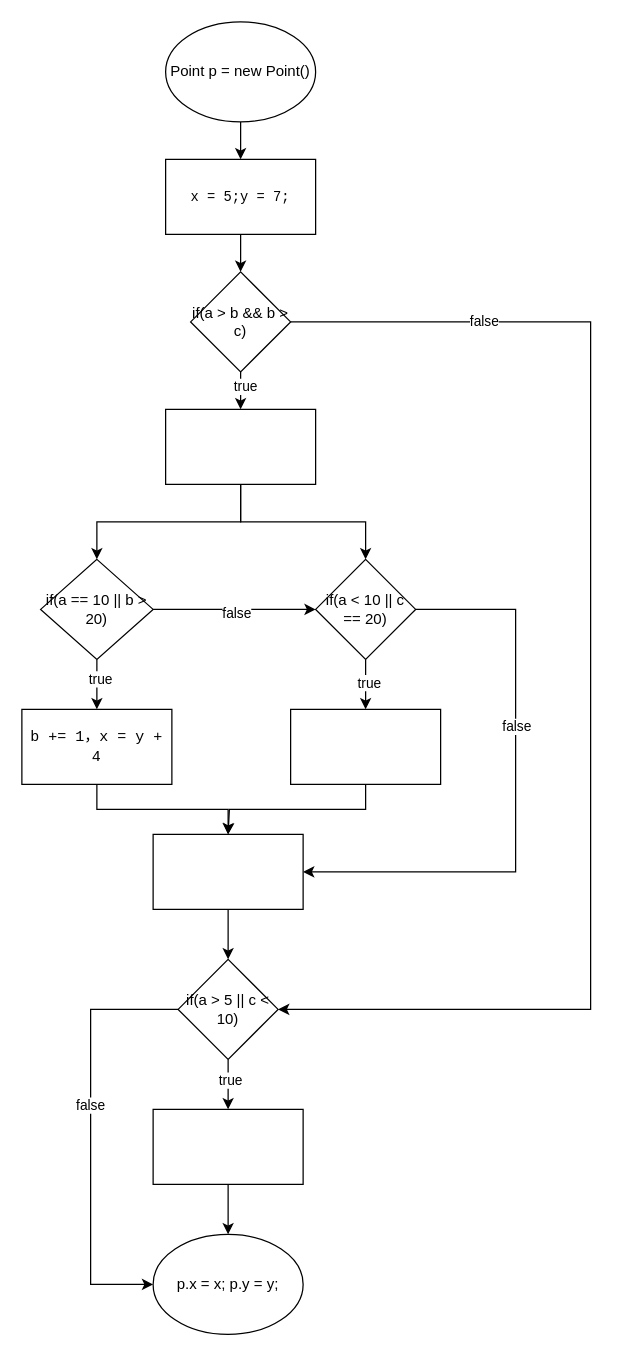
The diagram is 623 pixels wide and 1356 high, and some of its shapes have lost their labels. Here are the shapes that lost their labels. From the top down, the centre of each, then its label:
At point 240,446: "a += 1 ， x += 6".
At point 365,746: "b += 2 ， y = 4".
At point 227,871: "a = a + b + 1 ， y = x + y".
At point 227,1146: "b = c + 5 ， x += 1".
